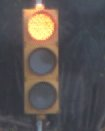Red: (15, 3, 63, 122)
